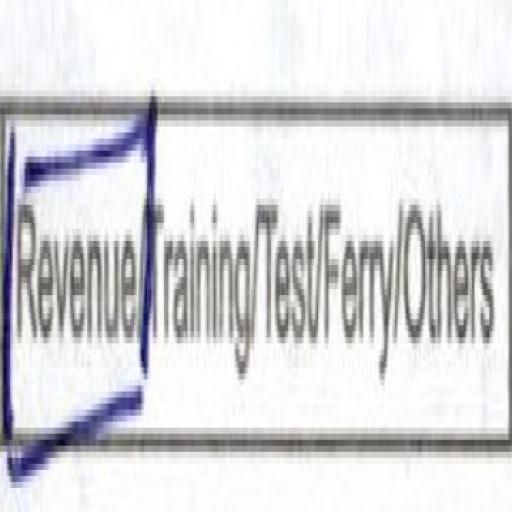check: (0, 13, 142, 487)
